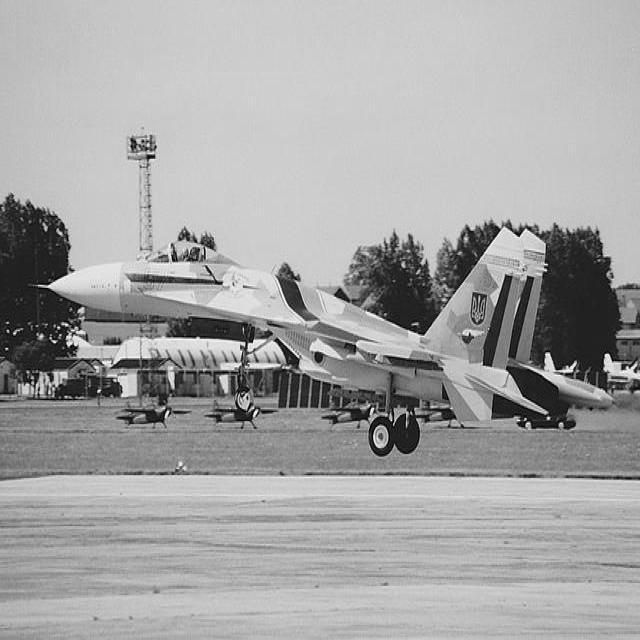vehicle: (53, 373, 123, 401), (516, 414, 576, 432)
